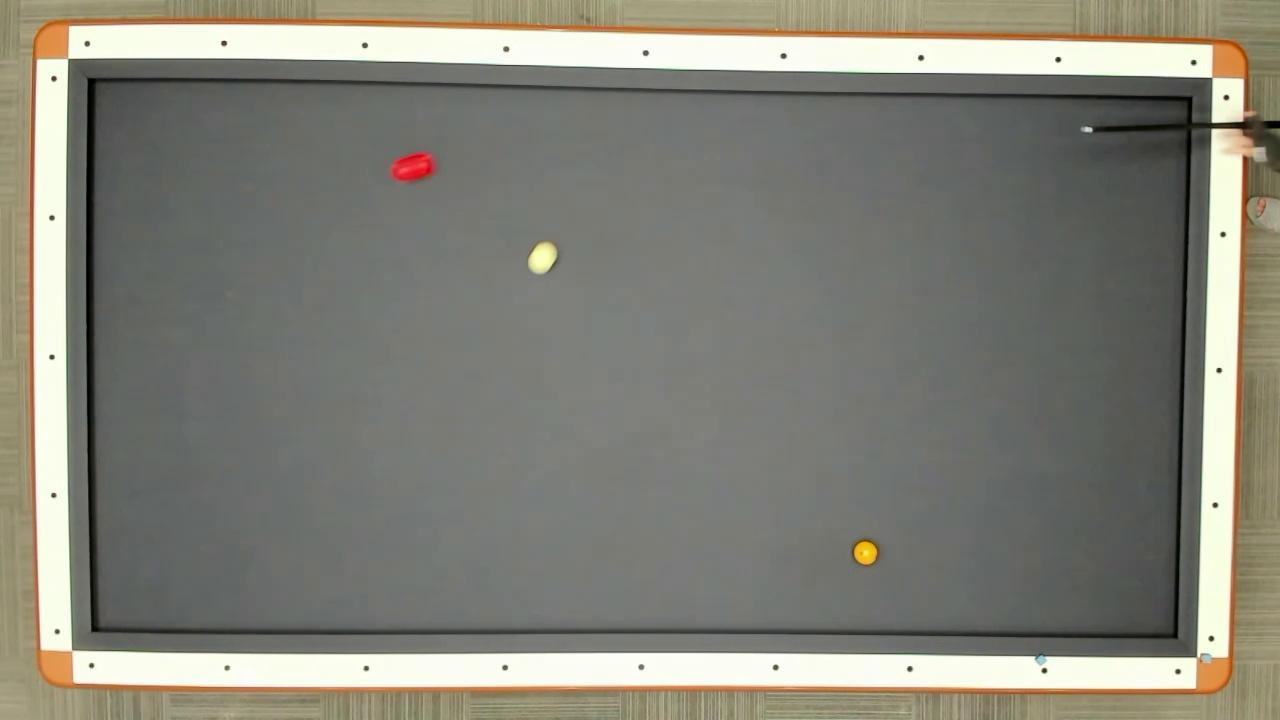Red: (388, 149, 437, 185)
White: (525, 239, 561, 278)
Yellow: (851, 539, 880, 567)
